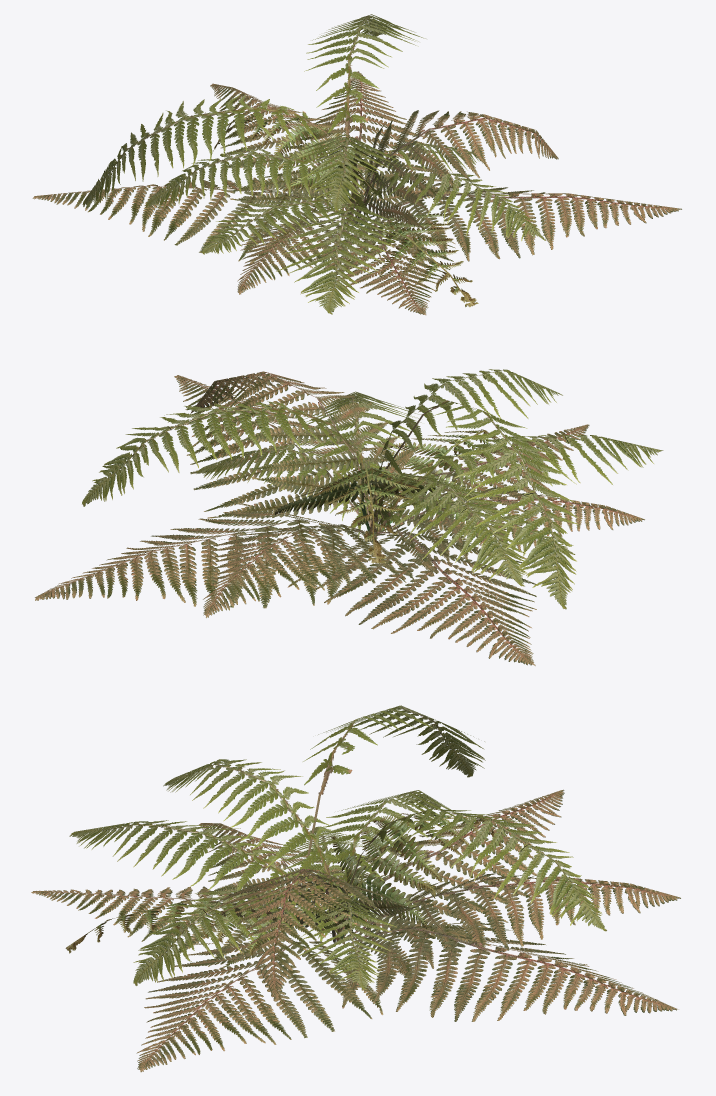
Rendered from SM_Plant_Forest_06.fbx.
3 views of the same model, one above another, from view 1: azimuth 30°, elevation 25°; view 2: azimuth 150°, elevation 25°; view 3: azimuth 270°, elevation 25° (orthographic). The views are drawn at different scales.
Parts seen in each view (by area): view 1: SM_Plant_Forest_06; view 2: SM_Plant_Forest_06; view 3: SM_Plant_Forest_06.
Part boxes in pixels (<box>): SM_Plant_Forest_06: <box>32,14,681,315</box>; SM_Plant_Forest_06: <box>35,369,663,665</box>; SM_Plant_Forest_06: <box>31,705,680,1072</box>.
Size of the model in its own units: 129 by 126 by 39.55.
1 material, 1 textured.
